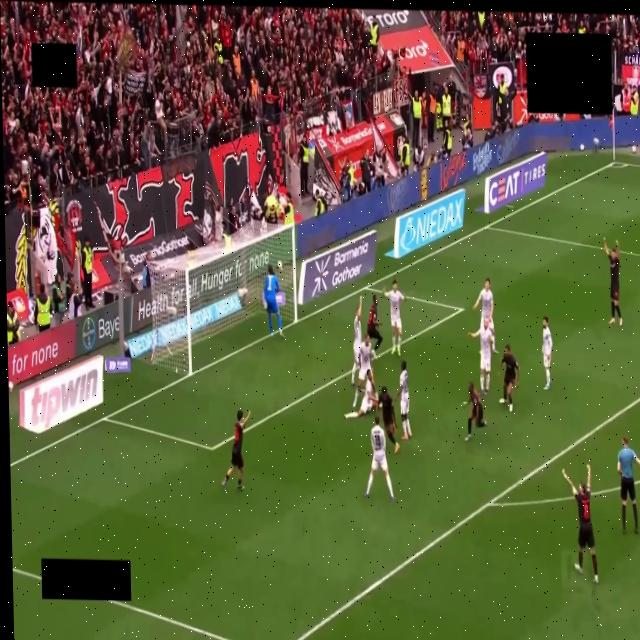player: (562, 465, 598, 583), (366, 416, 394, 500), (467, 317, 496, 395), (223, 411, 250, 490), (474, 278, 498, 353), (382, 281, 405, 357), (345, 369, 378, 419), (353, 335, 375, 407), (604, 238, 622, 326), (378, 386, 399, 454), (264, 266, 283, 337), (500, 345, 519, 411), (465, 382, 486, 441), (398, 361, 411, 440), (351, 296, 362, 386), (541, 316, 554, 391), (367, 295, 382, 351)
referee: (617, 438, 639, 533)
